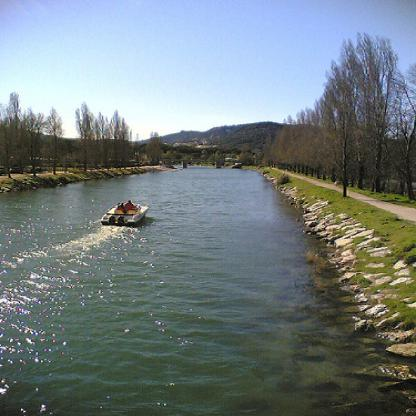boat: (99, 197, 151, 227)
